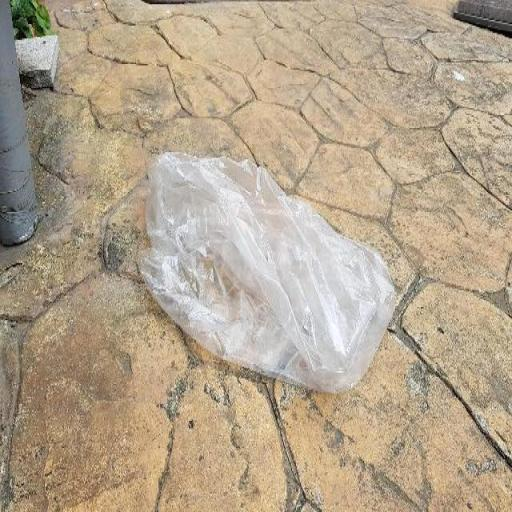plastic-bag: (136, 152, 402, 392)
